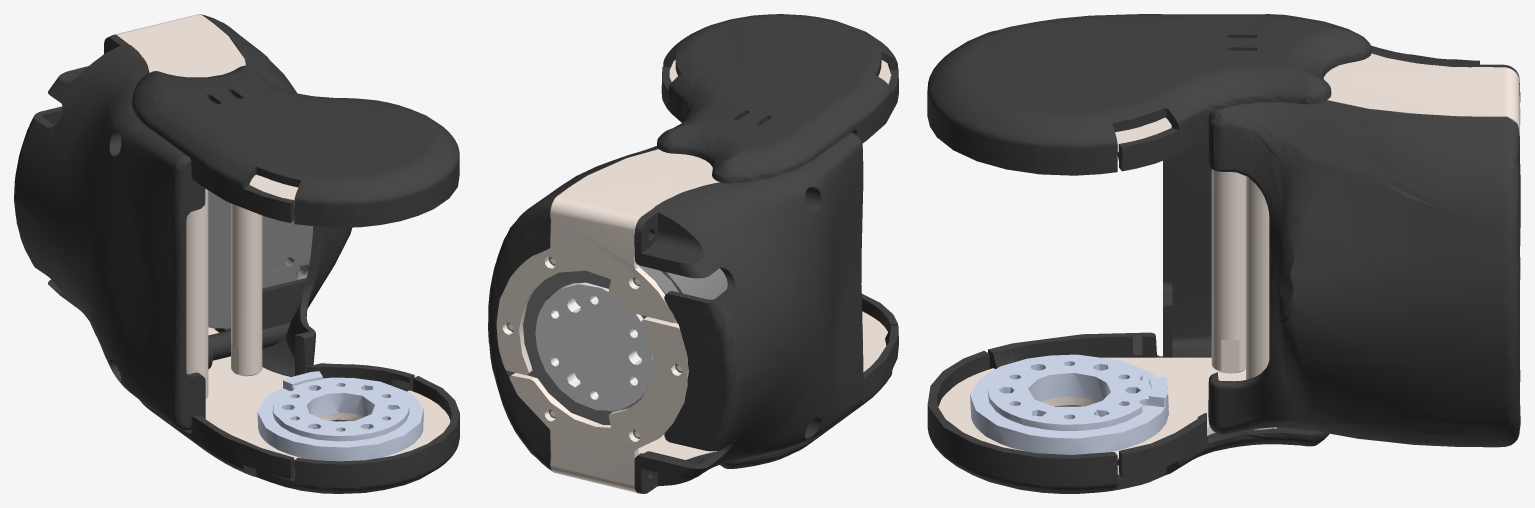
The picture shows the model from 3 angles, left to right: view 1: azimuth 30°, elevation 25°; view 2: azimuth 150°, elevation 25°; view 3: azimuth 270°, elevation 25°; orthographic projection. The views are drawn at different scales.
Parts seen in each view (by area): view 1: node6, node13, node7, node12, node4, node9, node8, node11, node10; view 2: node6, node13, node9, node8, node5, node4, node12; view 3: node6, node13, node12, node7, node9, node10, node8, node11.
Boxes of the visible parts, x1,y1,x2,y2 form: node6: [14, 14, 351, 430]; node13: [132, 65, 459, 227]; node7: [257, 371, 423, 461]; node12: [140, 363, 459, 493]; node4: [208, 190, 313, 328]; node9: [115, 14, 298, 206]; node8: [205, 327, 450, 476]; node11: [231, 203, 262, 376]; node10: [186, 188, 208, 399]; node6: [488, 120, 863, 493]; node13: [657, 14, 898, 183]; node9: [496, 60, 891, 375]; node8: [509, 311, 887, 492]; node5: [535, 282, 652, 410]; node4: [506, 256, 727, 439]; node12: [720, 294, 898, 468]; node6: [1163, 45, 1520, 447]; node13: [927, 14, 1371, 175]; node12: [927, 332, 1329, 493]; node7: [970, 354, 1168, 454]; node9: [1115, 53, 1520, 151]; node10: [1211, 169, 1245, 373]; node8: [938, 357, 1519, 474]; node11: [1246, 176, 1269, 379].
Bounding box in the file's own units: 0.075 × 0.0894 × 0.1273.
